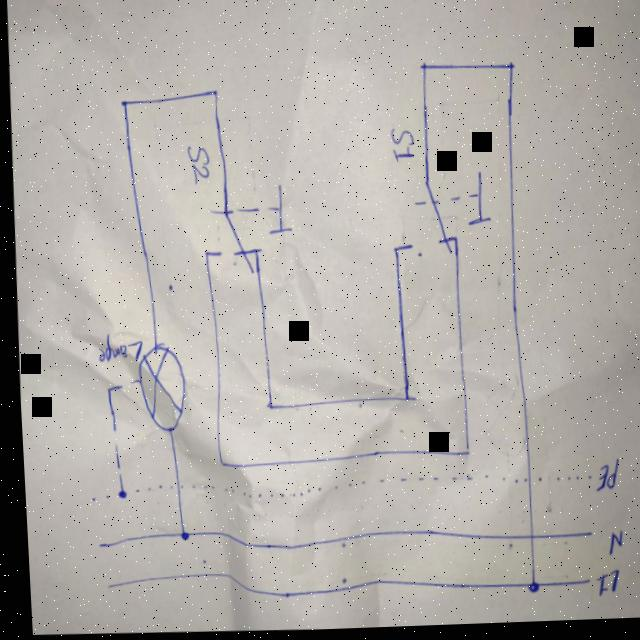crossover: (166, 482, 180, 496), (517, 476, 531, 488), (521, 535, 530, 545)
junction: (518, 581, 535, 600), (415, 61, 429, 79), (109, 486, 123, 502), (172, 527, 184, 545), (396, 394, 411, 408), (503, 62, 516, 78), (208, 87, 220, 103), (387, 245, 398, 260), (118, 98, 128, 112), (99, 384, 109, 397), (199, 249, 208, 262), (458, 449, 467, 460), (447, 237, 456, 247), (212, 460, 221, 470), (261, 403, 270, 413), (248, 248, 259, 256)
switch: (203, 183, 294, 278), (402, 171, 492, 263)
terminal: (577, 531, 590, 543), (89, 539, 100, 551), (575, 578, 586, 590), (98, 582, 107, 592), (84, 494, 91, 504), (580, 477, 587, 485)
text: (93, 331, 139, 364), (182, 143, 211, 188), (386, 128, 415, 167), (588, 463, 616, 497), (588, 571, 615, 604), (598, 532, 620, 564)
